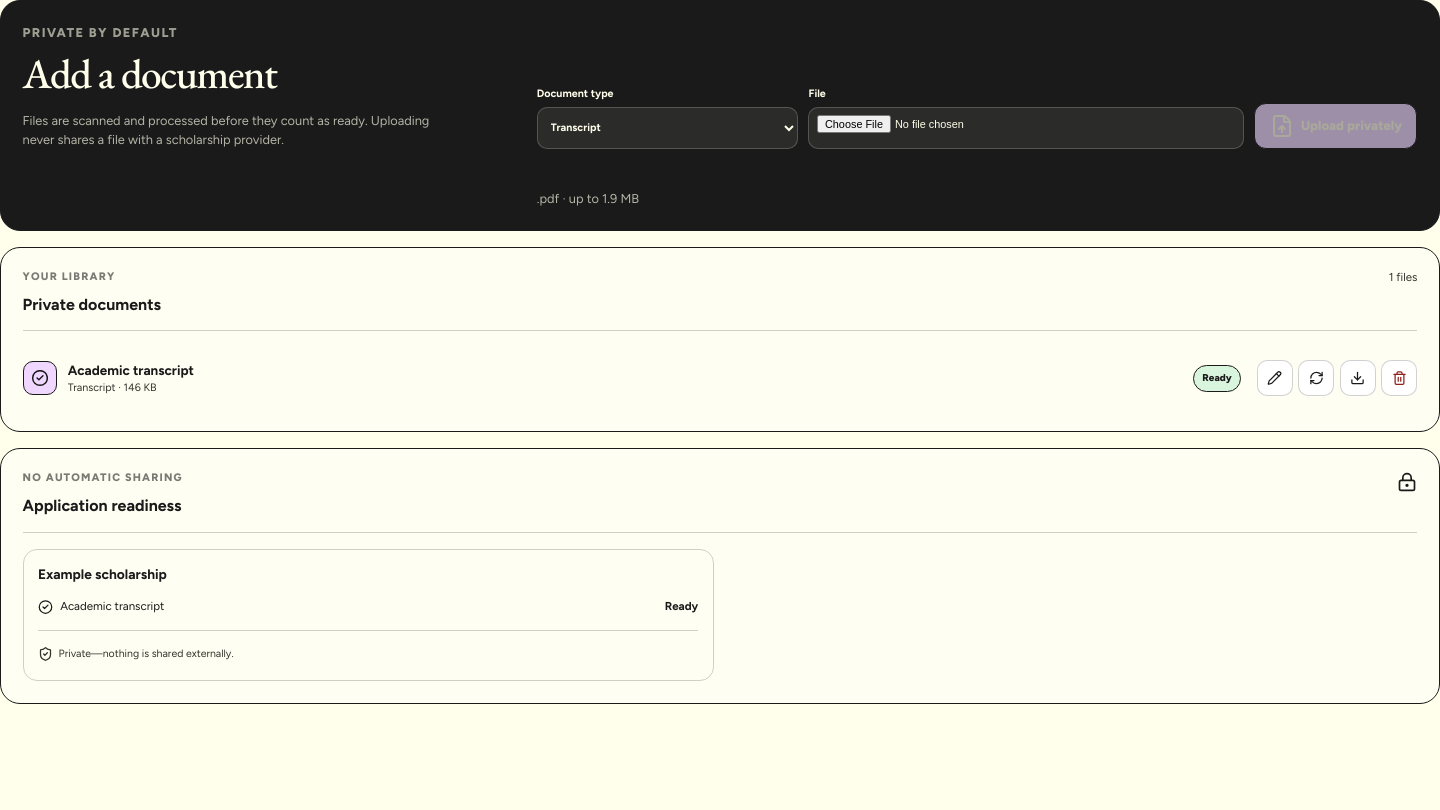
Test case: private document manager › does not open a signed URL that is already expired
The image size is (1440, 810).
Click the 3rd button at (1358,378), box [1340,360,1376,396]
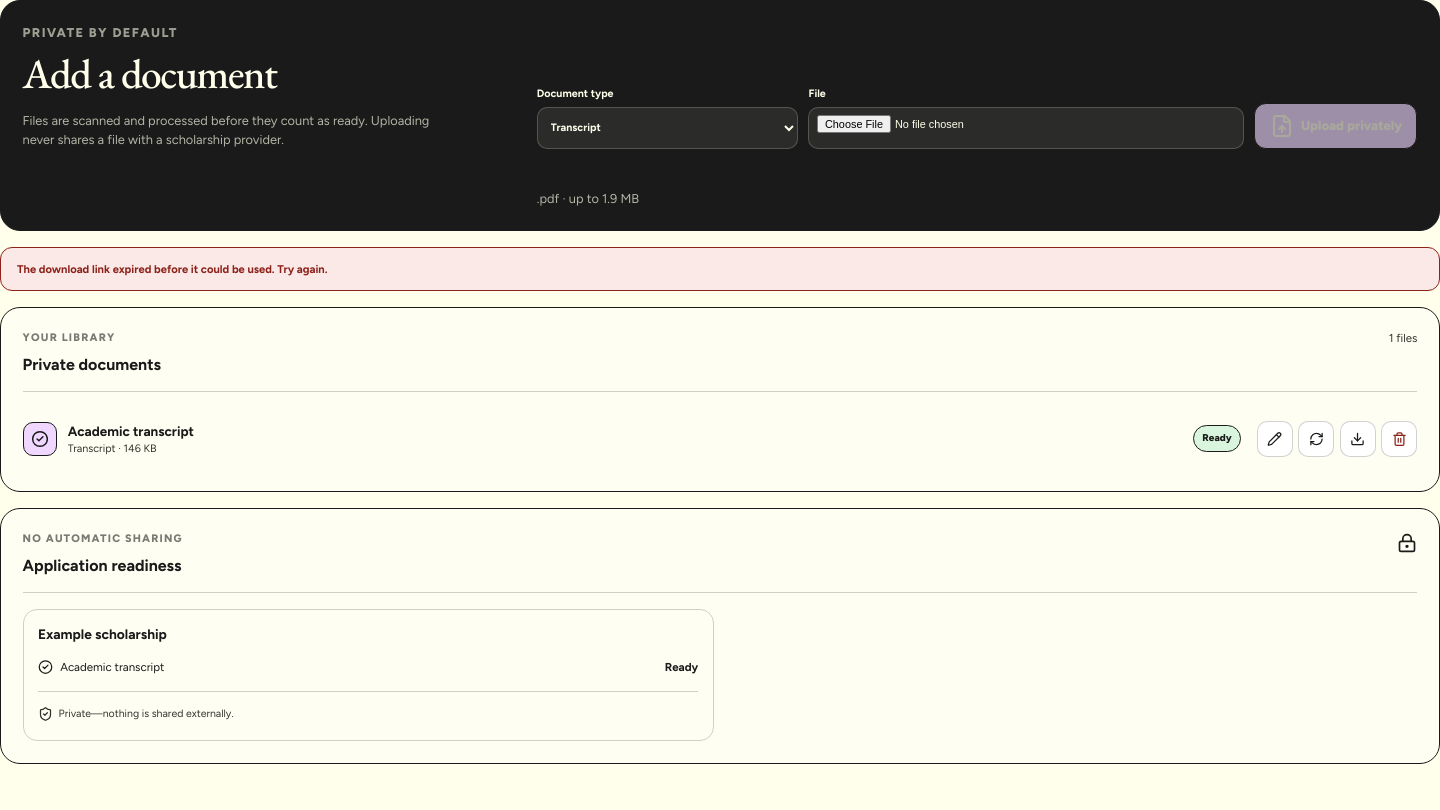
Now the message shows "expired before it could be used", box [17,262,328,276]
